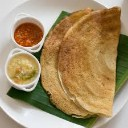dosa: (44, 5, 124, 119)
